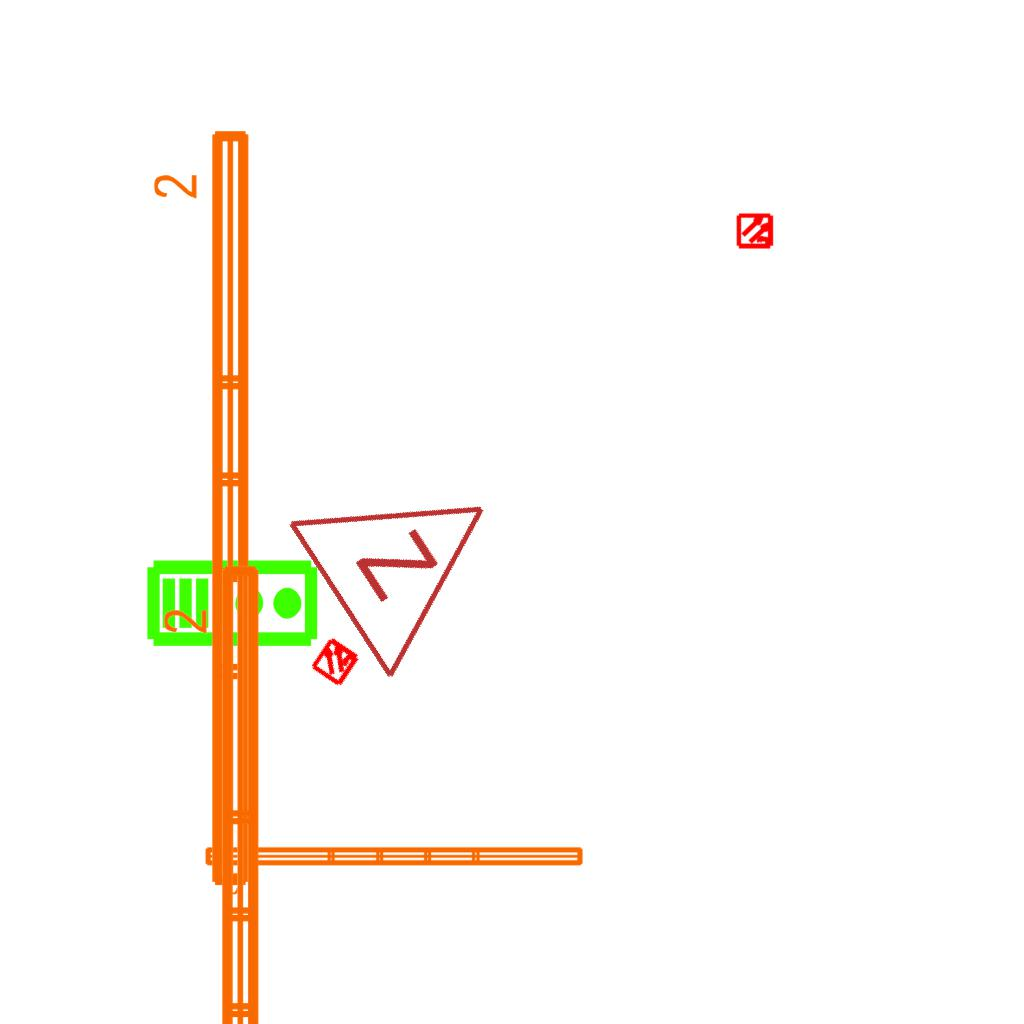Ambulanz_Pendelleuchte_LED: (149, 122, 261, 896), (159, 557, 271, 1024), (201, 841, 588, 897)
Gegensprechanlage_mit_Video: (145, 554, 321, 649)
OT_Multisensormelder_(Kombination_RMO_WMD): (297, 622, 375, 700), (728, 203, 784, 259)
Zimmersignalleuchte: (271, 416, 547, 690)
